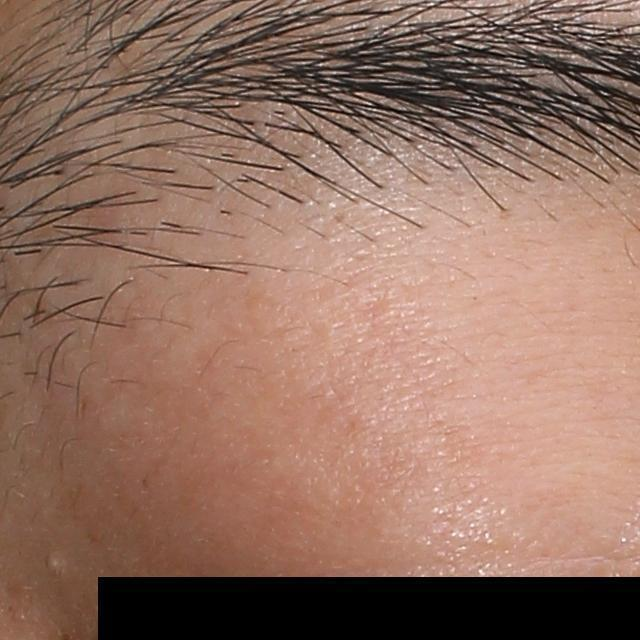other: (44, 551, 70, 576)
